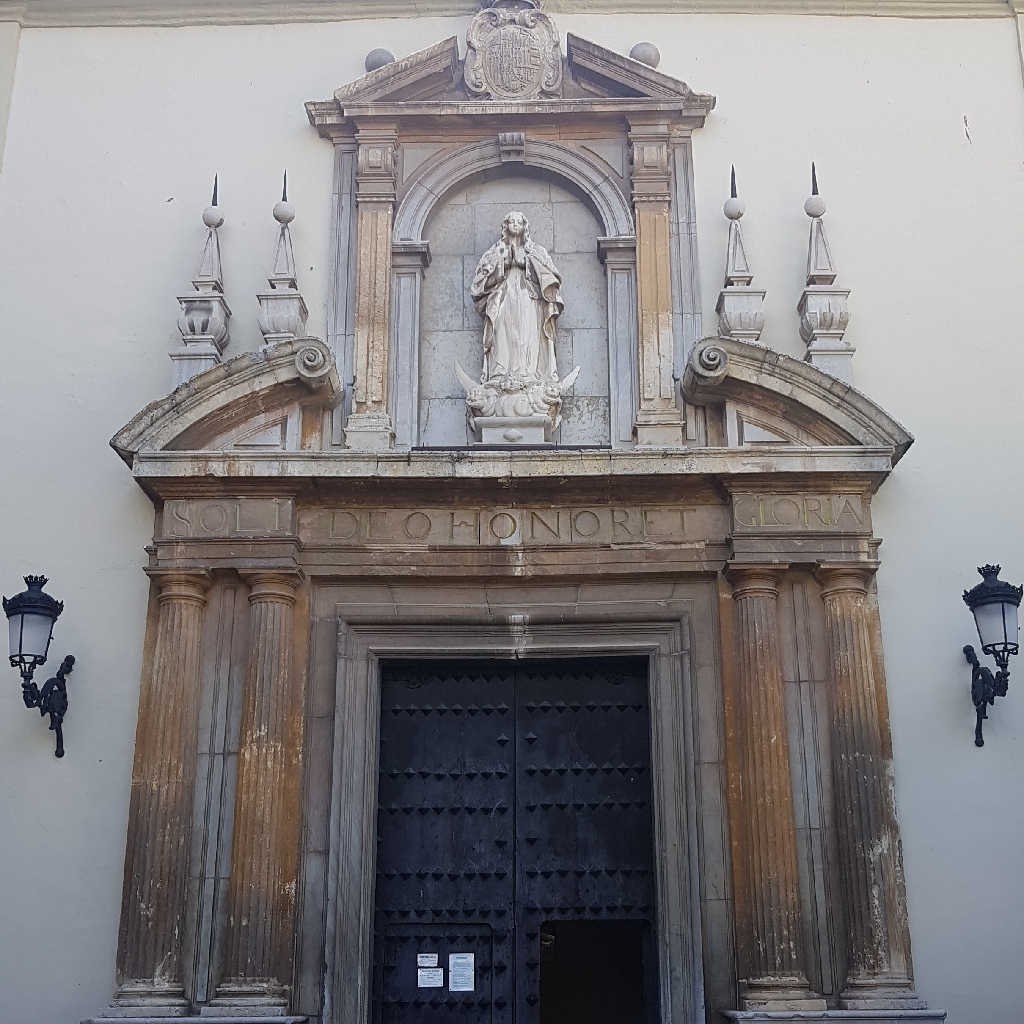arco-medio-punto: (410, 152, 617, 283)
fronton-partido: (109, 332, 917, 485), (332, 30, 702, 118)
vano-adintelado: (320, 594, 709, 1024)
